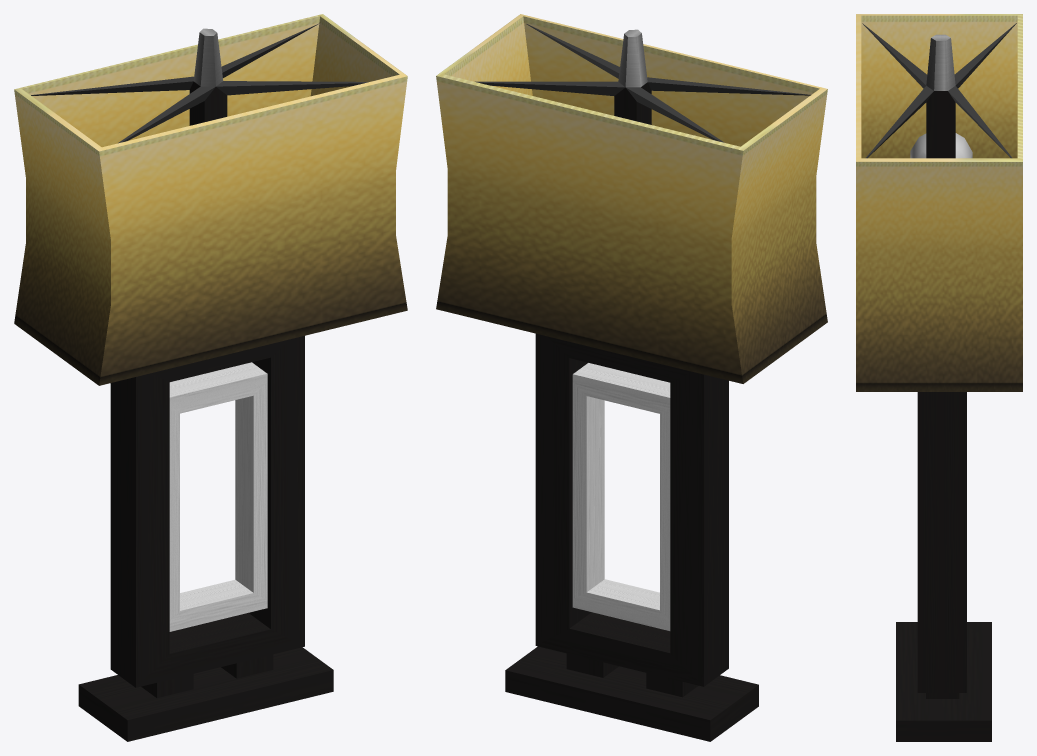
File: Table_Lamp_A.FBX
The picture shows the model from 3 angles, left to right: view 1: azimuth 30°, elevation 25°; view 2: azimuth 150°, elevation 25°; view 3: azimuth 270°, elevation 25°; orthographic projection.
Visible parts, largest first — view 1: Lamp; view 2: Lamp; view 3: Lamp.
Boxes of the visible parts, <box> form: Lamp: <box>14,14,407,741</box>; Lamp: <box>436,14,827,741</box>; Lamp: <box>856,14,1022,741</box>.
Size of the model in its own units: 83.89 by 173 by 40.
